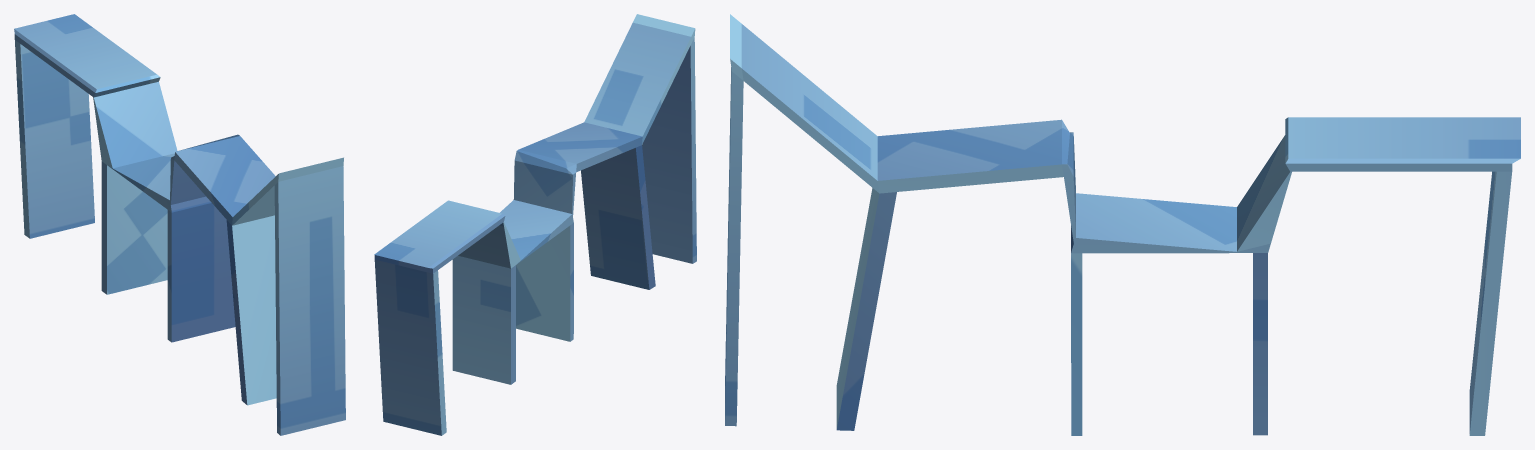
Rendered from shelves.FBX.
3 views of the same model, side by side, from view 1: azimuth 30°, elevation 25°; view 2: azimuth 150°, elevation 25°; view 3: azimuth 270°, elevation 25° (orthographic). The views are drawn at different scales.
Visible parts, largest first — view 1: shelves002; view 2: shelves002; view 3: shelves002.
Part boxes in pixels (<box>): shelves002: <box>14,14,345,435</box>; shelves002: <box>374,14,696,435</box>; shelves002: <box>725,14,1520,435</box>.
Bounding box in the file's own units: 24.53 × 77.24 × 152.
Materials: 1 (1 with a texture image).
